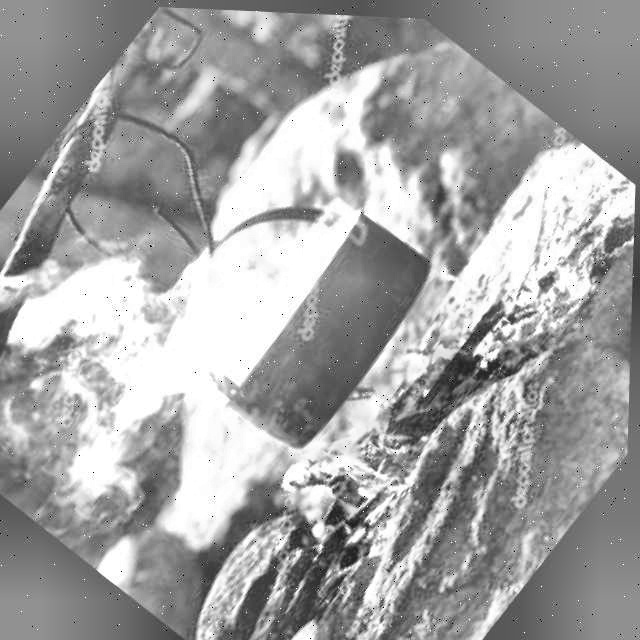Fire: (282, 269, 510, 529)
Smoke: (0, 64, 367, 469)
